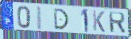0: (16, 5, 31, 30)
1: (80, 9, 90, 34)
D: (53, 8, 70, 30)
I: (36, 5, 43, 31)
K: (92, 9, 106, 33)
R: (108, 11, 127, 34)
